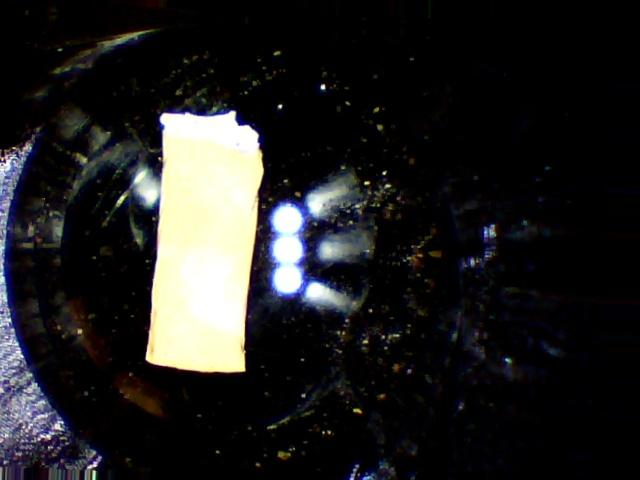megot: (139, 97, 271, 380)
